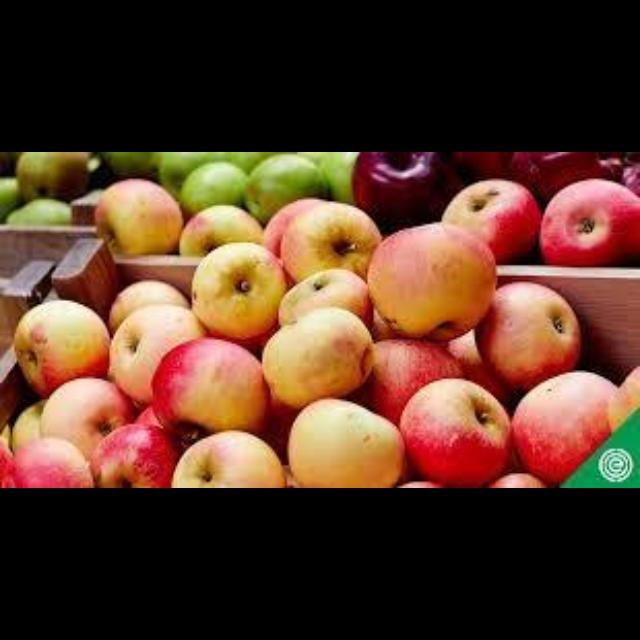apple: (365, 222, 495, 340), (151, 338, 268, 441), (398, 379, 510, 484), (512, 371, 615, 482), (475, 282, 580, 389), (262, 307, 372, 408), (287, 400, 403, 486), (107, 305, 204, 404), (190, 243, 285, 340), (14, 301, 107, 396), (353, 152, 465, 230), (539, 179, 638, 266), (442, 179, 539, 263), (363, 340, 462, 422), (279, 202, 380, 280), (39, 377, 134, 458), (93, 179, 182, 255), (171, 431, 285, 486), (244, 154, 326, 222), (91, 425, 178, 486), (279, 268, 372, 325), (446, 332, 514, 406), (510, 152, 603, 202), (180, 204, 262, 255), (109, 280, 188, 332), (14, 437, 91, 486), (262, 197, 322, 255), (180, 162, 246, 214), (17, 152, 89, 199), (159, 152, 221, 197), (607, 367, 638, 431), (320, 152, 357, 202), (6, 197, 70, 224), (10, 400, 45, 449), (99, 152, 155, 177), (454, 152, 510, 177), (227, 152, 279, 171), (0, 177, 19, 222), (489, 474, 545, 486), (134, 406, 161, 427), (297, 152, 322, 160), (398, 482, 442, 486)
